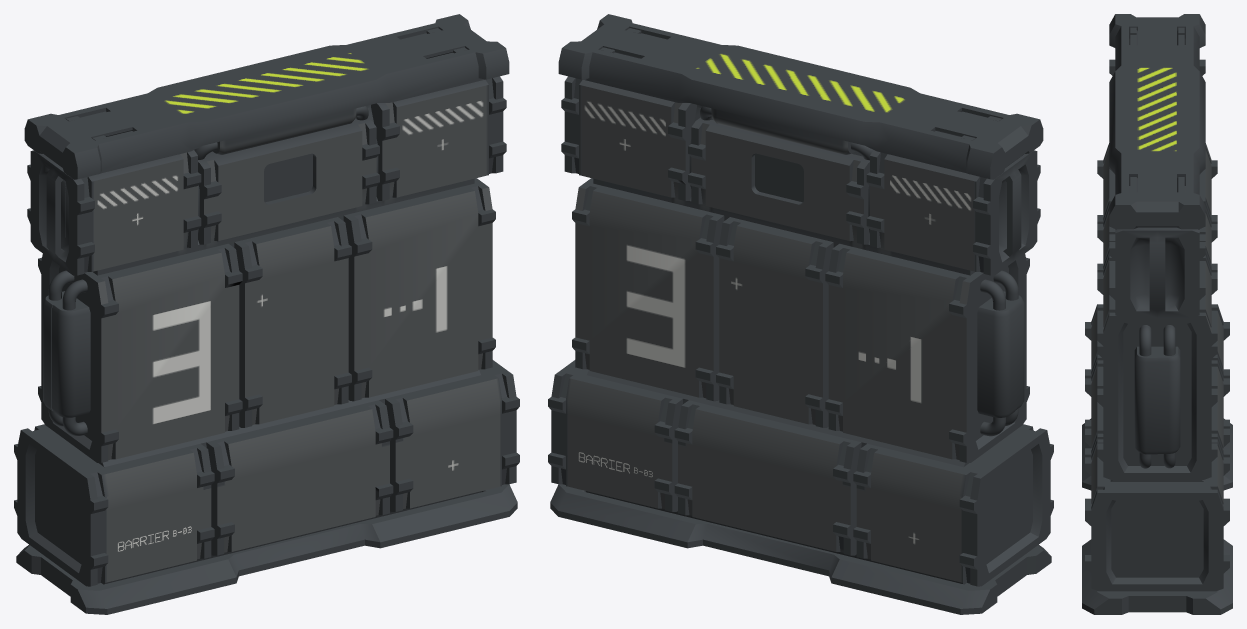
File: high-wall.glb
3 renders of one model, left to right at view 1: azimuth 30°, elevation 25°; view 2: azimuth 150°, elevation 25°; view 3: azimuth 270°, elevation 25°, orthographic. The views are drawn at different scales.
Visible parts, largest first — view 1: high-wall-high; view 2: high-wall-high; view 3: high-wall-high.
Boxes of the visible parts, x1,y1,x2,y2 form: high-wall-high: (14,14,519,614); high-wall-high: (548,14,1053,614); high-wall-high: (1082,14,1232,614).
Size of the model in its own units: 75.08 by 75 by 25.
Materials: 1 (1 with a texture image).
